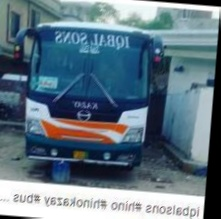bus: (16, 15, 164, 175)
